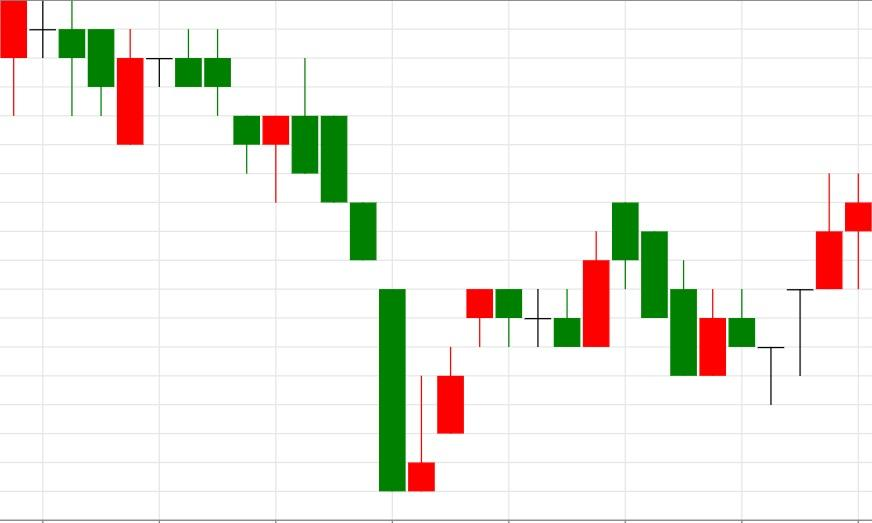bullish_engulfing_rise: (465, 229, 610, 348)
inverse_hammer_rise: (290, 57, 436, 493)
